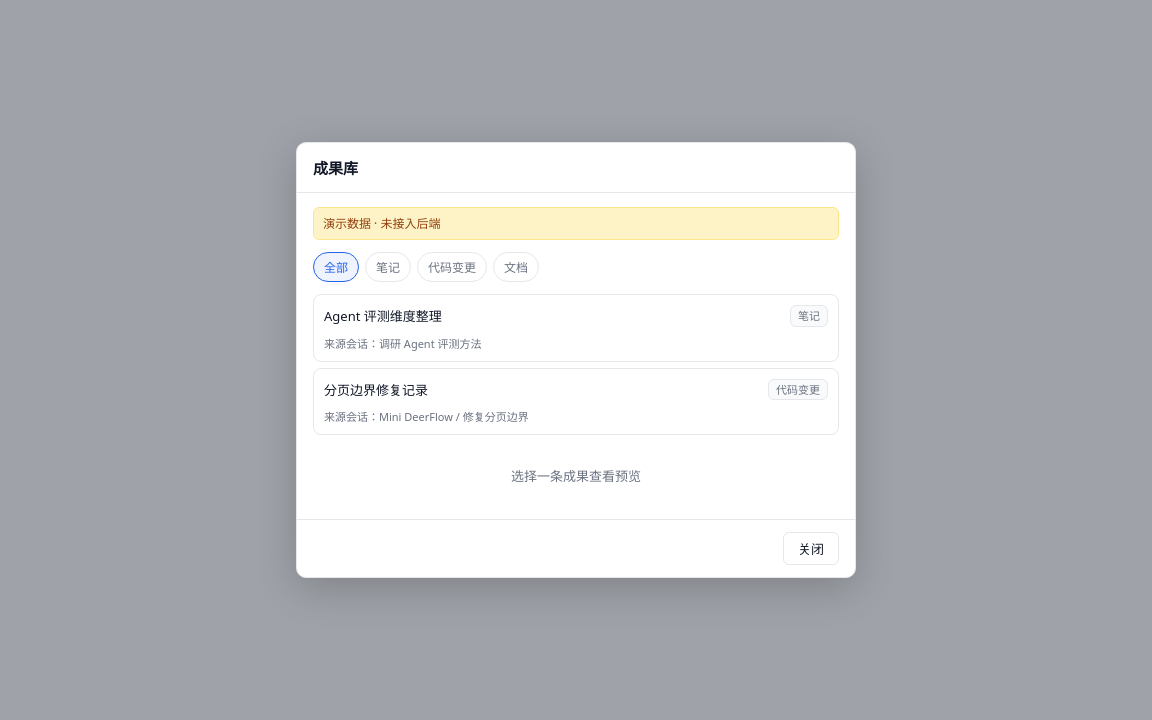
ArtifactsDialog — 筛选 › 默认「全部」展示所有条目，chips 可切换
This screenshot has width=1152, height=720.
Expected: the button "全部" is shown, [313,252,359,282]
Expected: the button "Agent 评测维度整理 笔记 来源会话：调研 Agent 评测方法" is shown, [313,294,839,362]
Click the button "笔记".
click(388, 267)  # box [365,252,411,282]
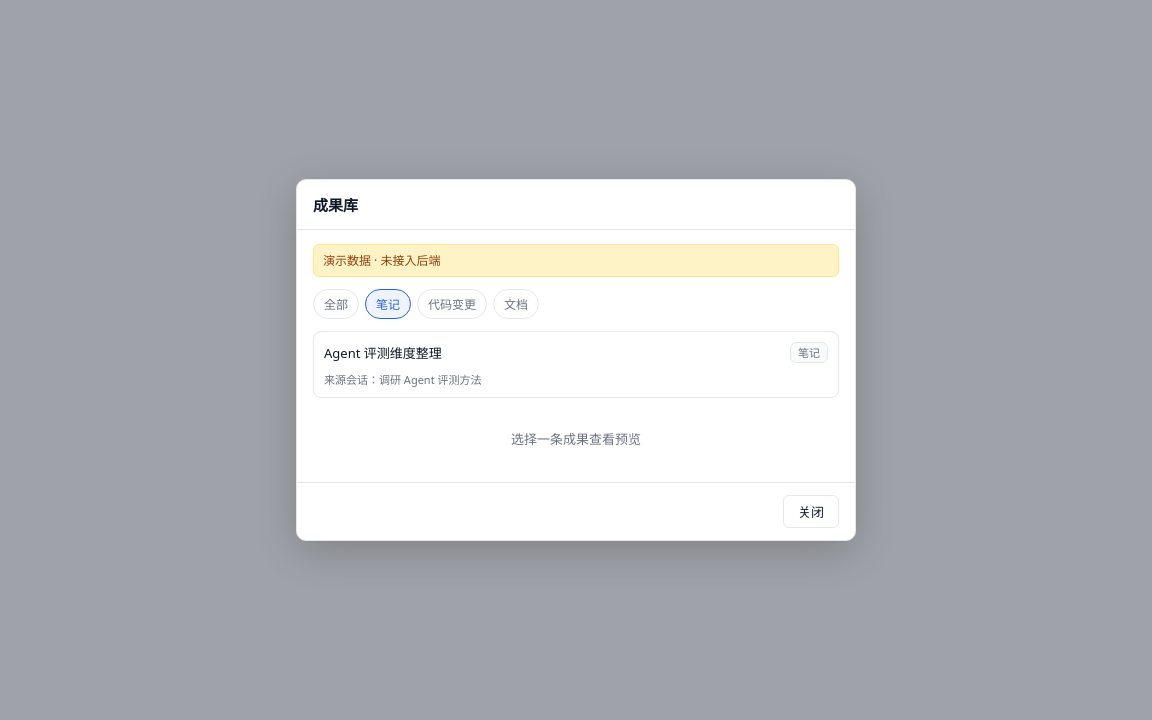
Expected: the button "笔记" is shown, [365,289,411,319]
Now the button "分页边界修复记录" is gone
